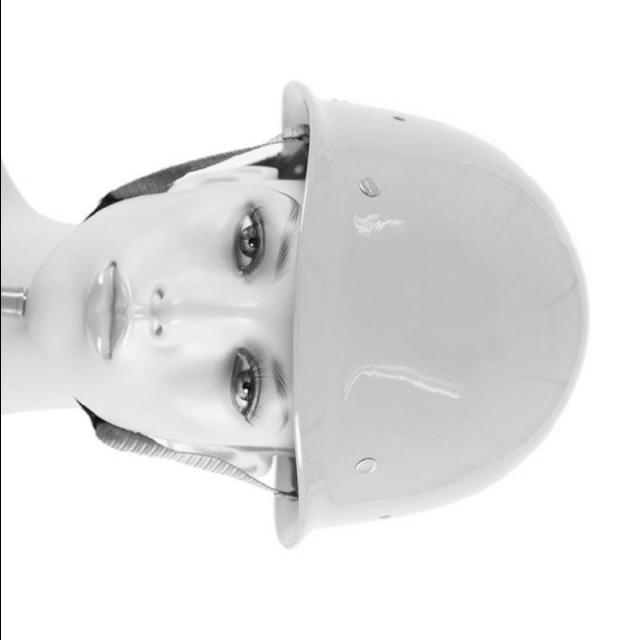safety_helmet: (273, 87, 587, 548)
